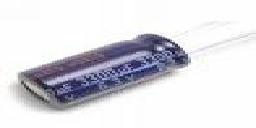Electrolytic-Capacitor: (16, 20, 256, 112)
